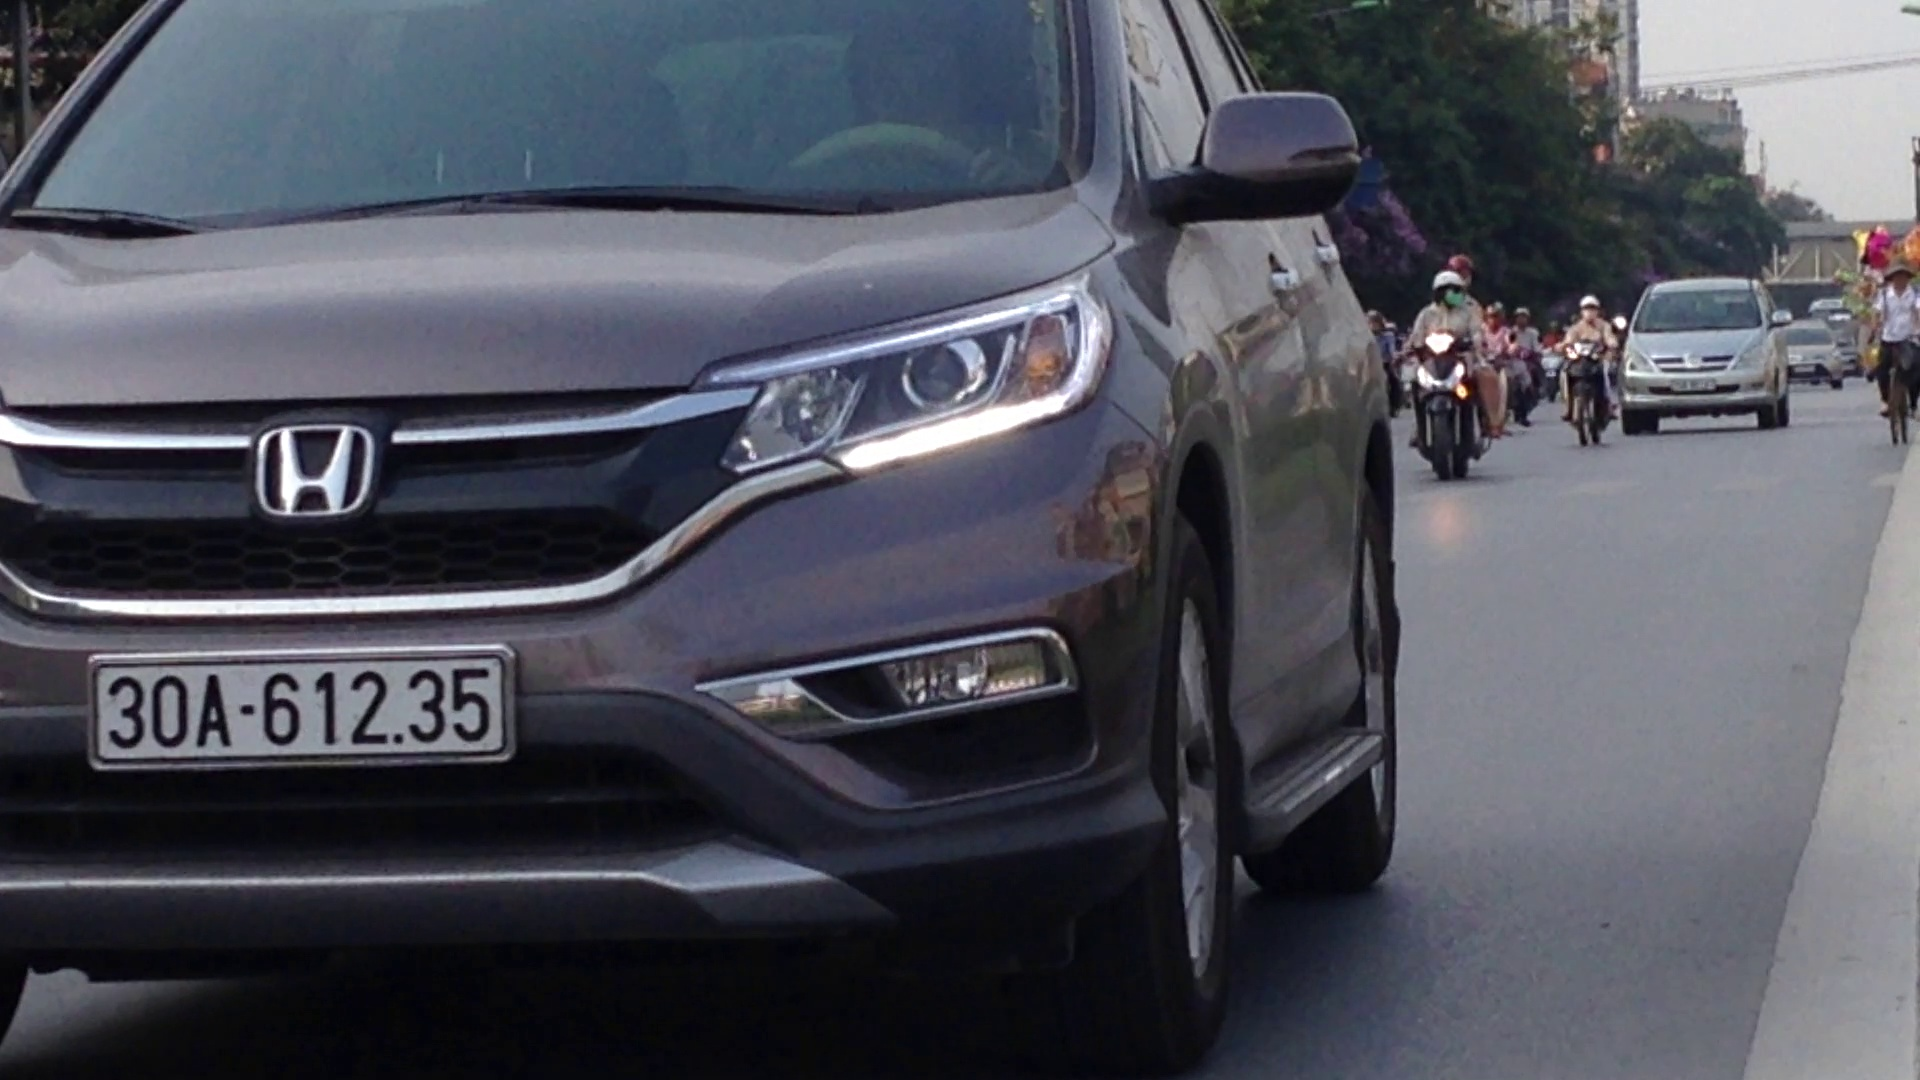person: (78, 644, 519, 774)
